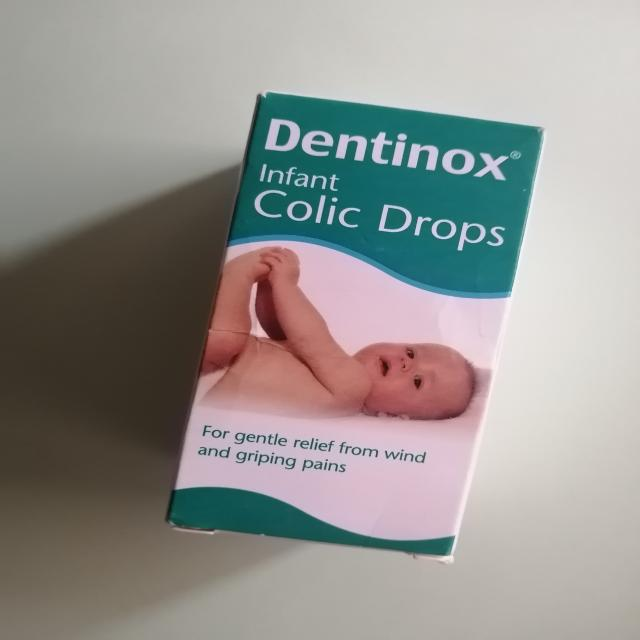Medicine: (157, 82, 544, 564)
